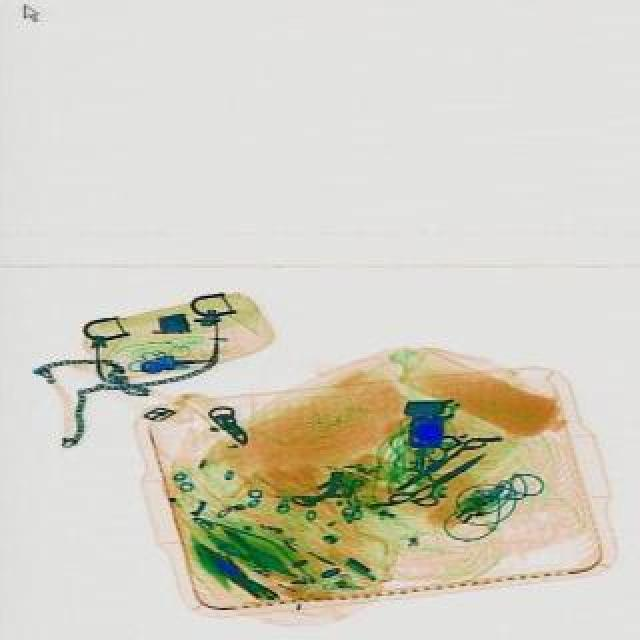pliers: (382, 418, 486, 508), (388, 438, 494, 522)
